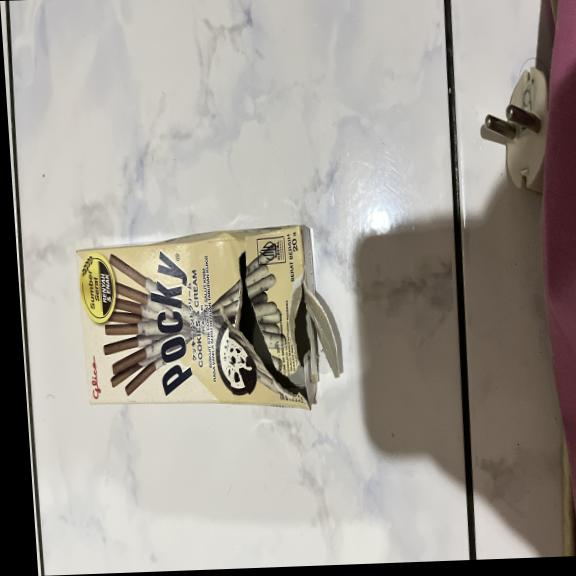Kertas: (74, 222, 316, 409)
